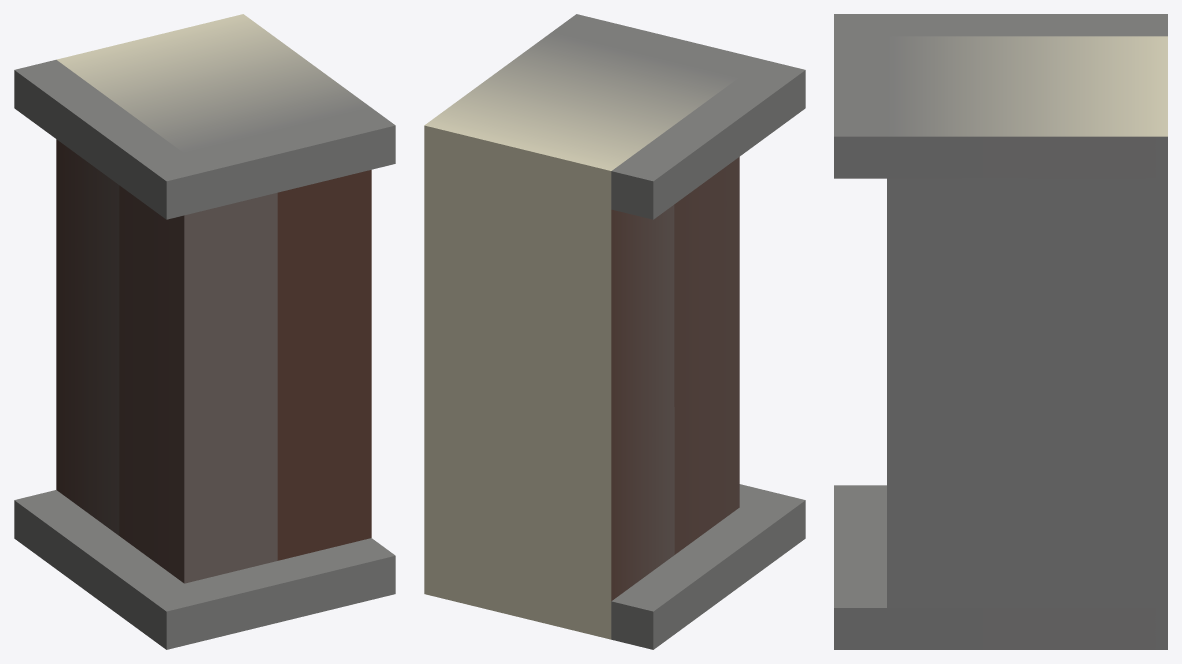
Rendered from B02_intersection_etage_corner_4.fbx.
The picture shows the model from 3 angles, left to right: view 1: azimuth 30°, elevation 25°; view 2: azimuth 150°, elevation 25°; view 3: azimuth 270°, elevation 25°; orthographic projection. The views are drawn at different scales.
Visible parts, largest first — view 1: B02_intersection_etage_corner_4; view 2: B02_intersection_etage_corner_4; view 3: B02_intersection_etage_corner_4.
Boxes of the visible parts, bbox=[...] form: B02_intersection_etage_corner_4: bbox=[14, 14, 395, 649]; B02_intersection_etage_corner_4: bbox=[424, 14, 805, 649]; B02_intersection_etage_corner_4: bbox=[834, 14, 1167, 649].
Size of the model in its own units: 91.84 by 179 by 106.
